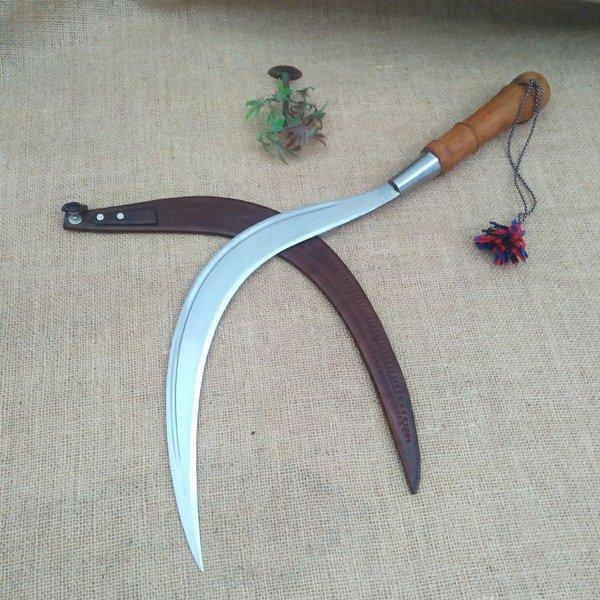foice: (155, 43, 566, 600)
